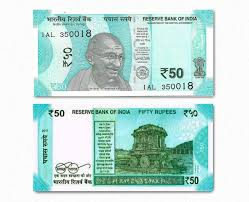fifty: (40, 21, 198, 83)
